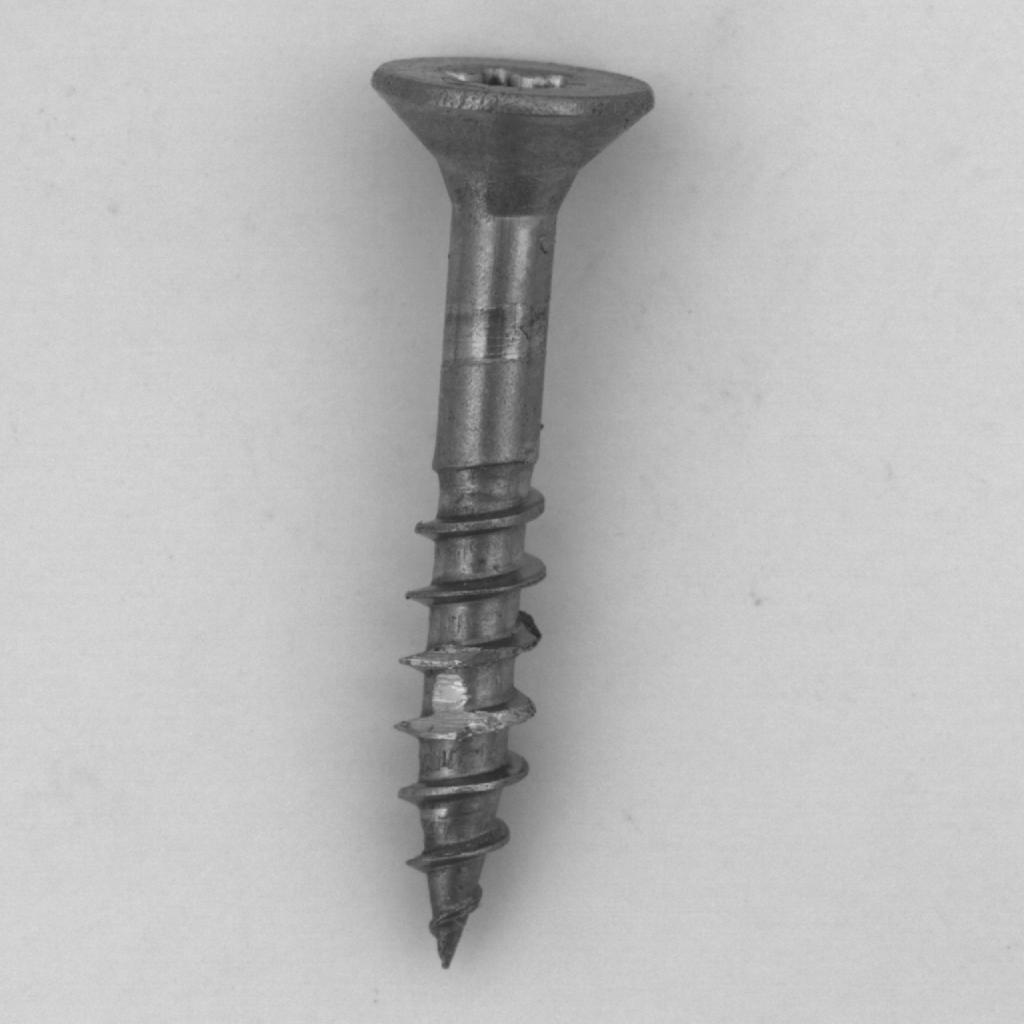thread_top: (334, 39, 679, 992)
